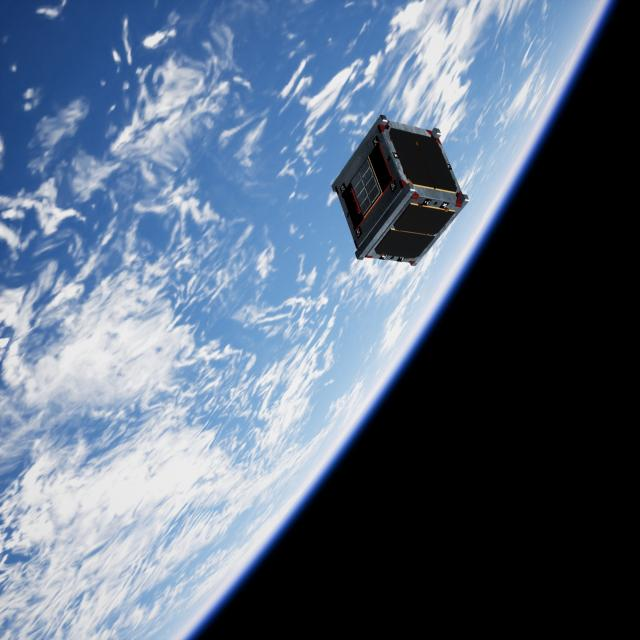medium_debris: (331, 114, 469, 267)
